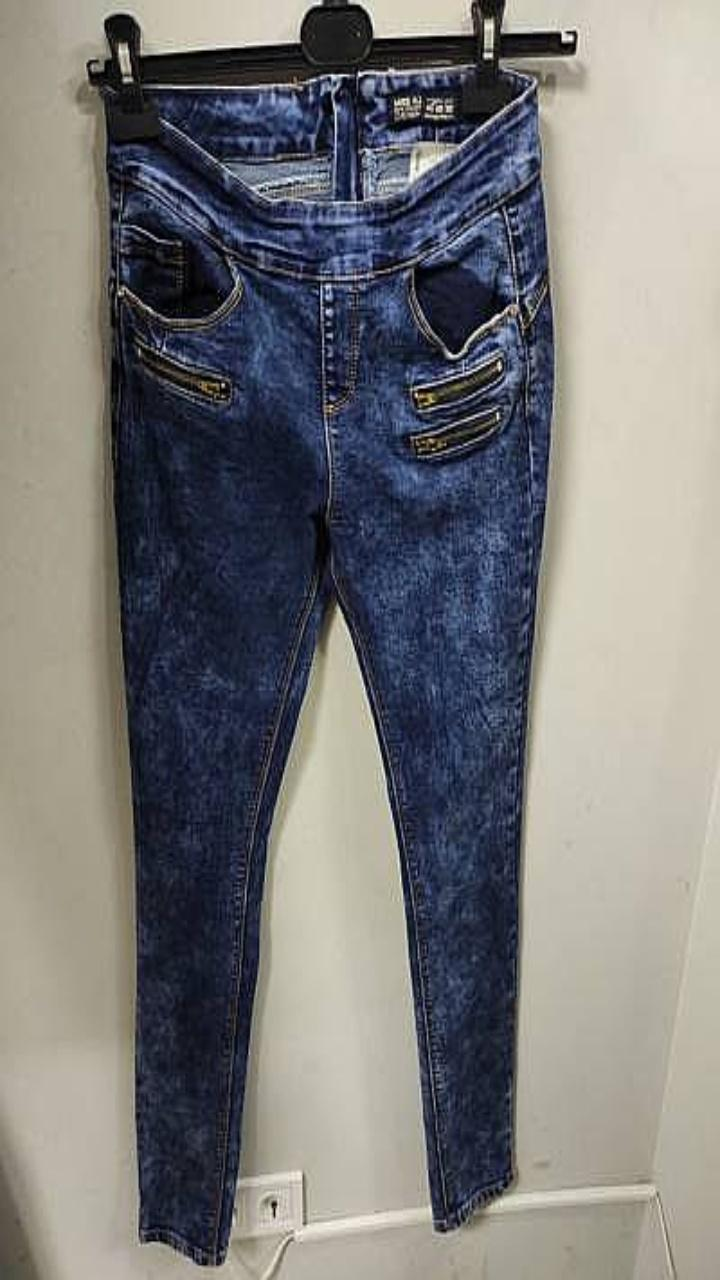Jeans: (106, 67, 552, 1263)
